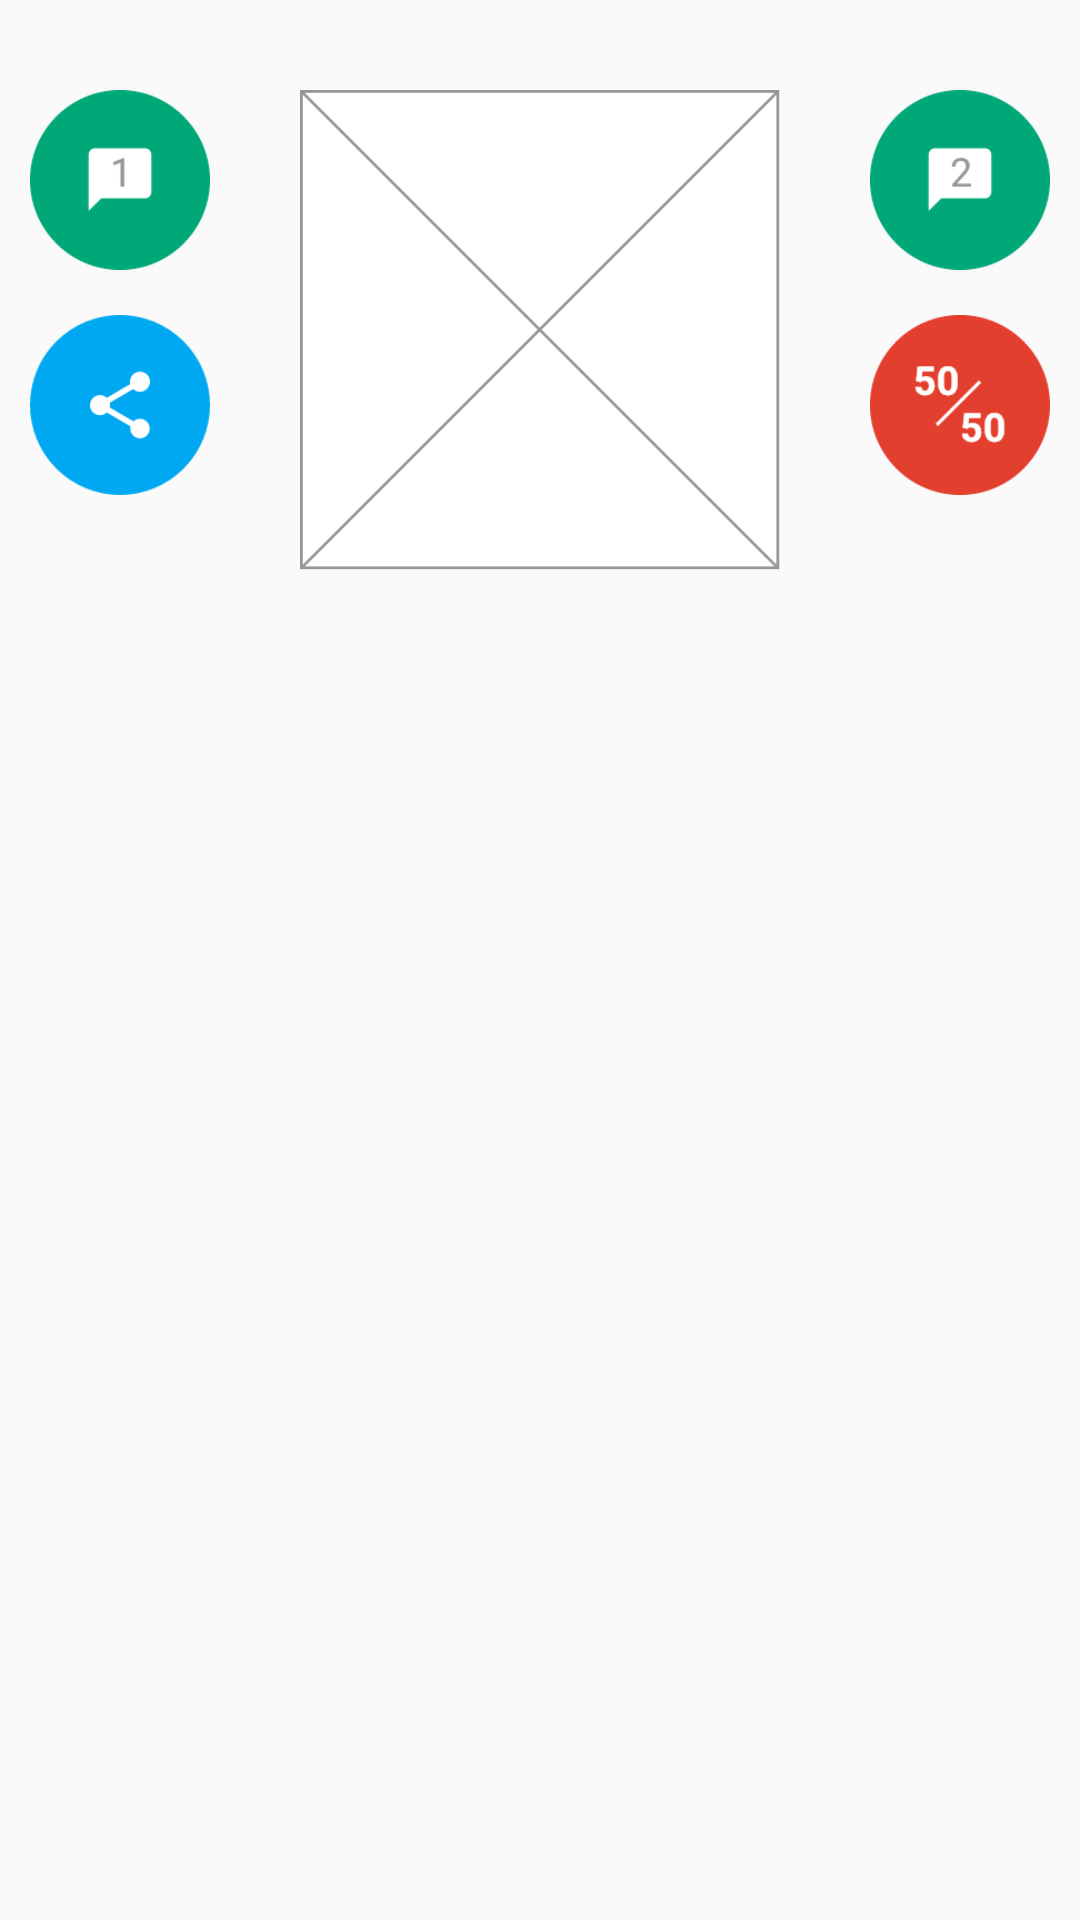

Icon click points for this 1080px x 1920px phone screenshot, format (x=x, y=y):
help hint: (x=120, y=180), (x=960, y=180)
help share: (x=120, y=405)
